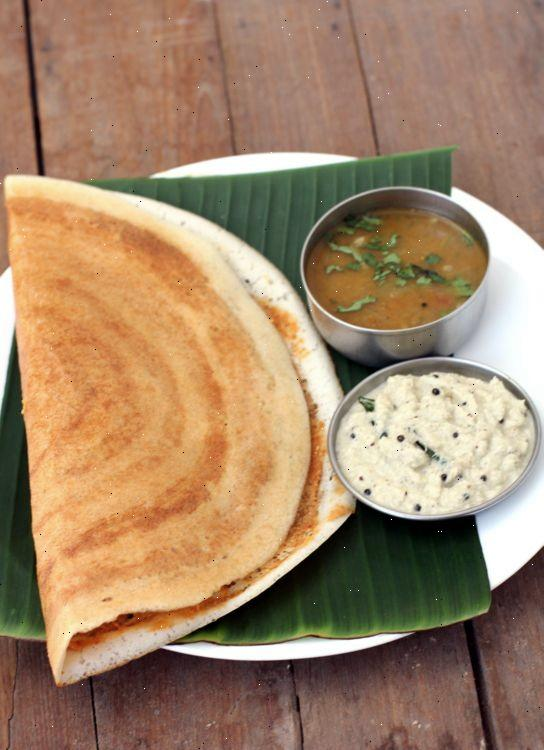dosa: (0, 164, 348, 666)
